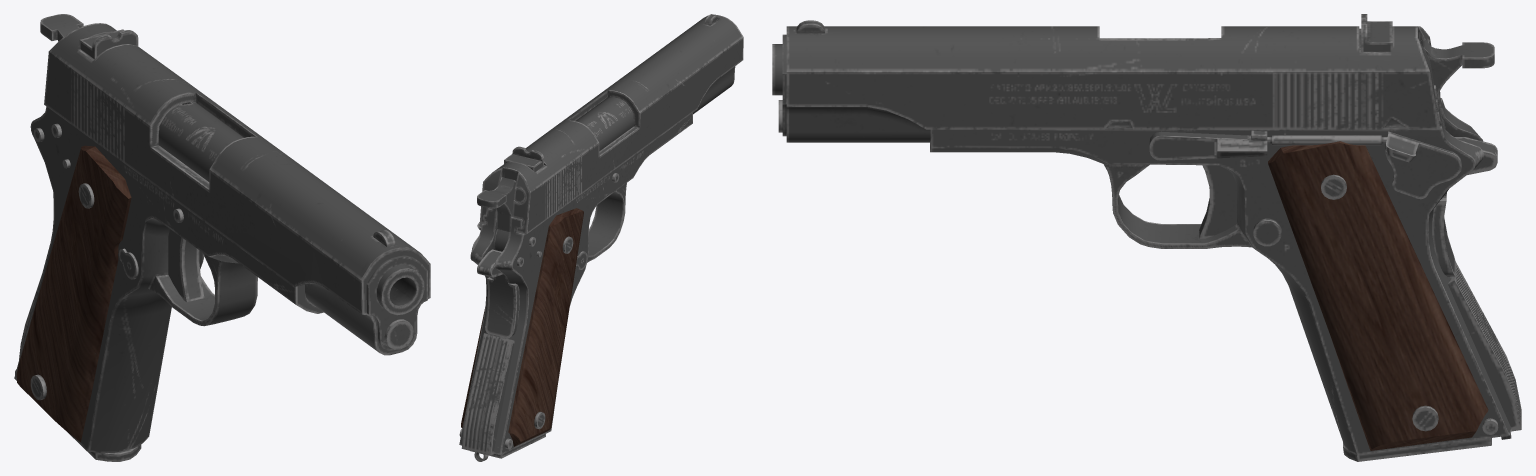
The model's file is Test_gun.fbx.
The picture shows the model from 3 angles, left to right: view 1: azimuth 30°, elevation 25°; view 2: azimuth 150°, elevation 25°; view 3: azimuth 270°, elevation 25°; orthographic projection. The views are drawn at different scales.
Parts seen in each view (by area): view 1: Cylinder.005_low_Cylinder.012, Cube_low_Cube.013, Cylinder_low_Cylinder.007, Cube.002_low_Cube.015, Cube.009_low_Cube.022; view 2: Cylinder.005_low_Cylinder.012, Cube_low_Cube.013, Cylinder_low_Cylinder.007, Cube.009_low_Cube.022; view 3: Cylinder.005_low_Cylinder.012, Cube_low_Cube.013, Cube.002_low_Cube.015, Cube.009_low_Cube.022.
Boxes of the visible parts, x1,y1,x2,y2 form: Cylinder.005_low_Cylinder.012: (14, 106, 323, 461); Cube_low_Cube.013: (44, 23, 430, 355); Cylinder_low_Cylinder.007: (158, 102, 424, 315); Cube.002_low_Cube.015: (168, 229, 204, 302); Cube.009_low_Cube.022: (40, 14, 83, 41); Cylinder.005_low_Cylinder.012: (459, 113, 692, 461); Cube_low_Cube.013: (479, 14, 743, 234); Cylinder_low_Cylinder.007: (576, 97, 633, 151); Cube.009_low_Cube.022: (477, 177, 525, 251); Cylinder.005_low_Cylinder.012: (930, 85, 1521, 461); Cube_low_Cube.013: (778, 14, 1439, 142); Cube.002_low_Cube.015: (1199, 165, 1236, 238); Cube.009_low_Cube.022: (1420, 38, 1494, 129).
Size of the model in its own units: 238 by 952 by 1500.
